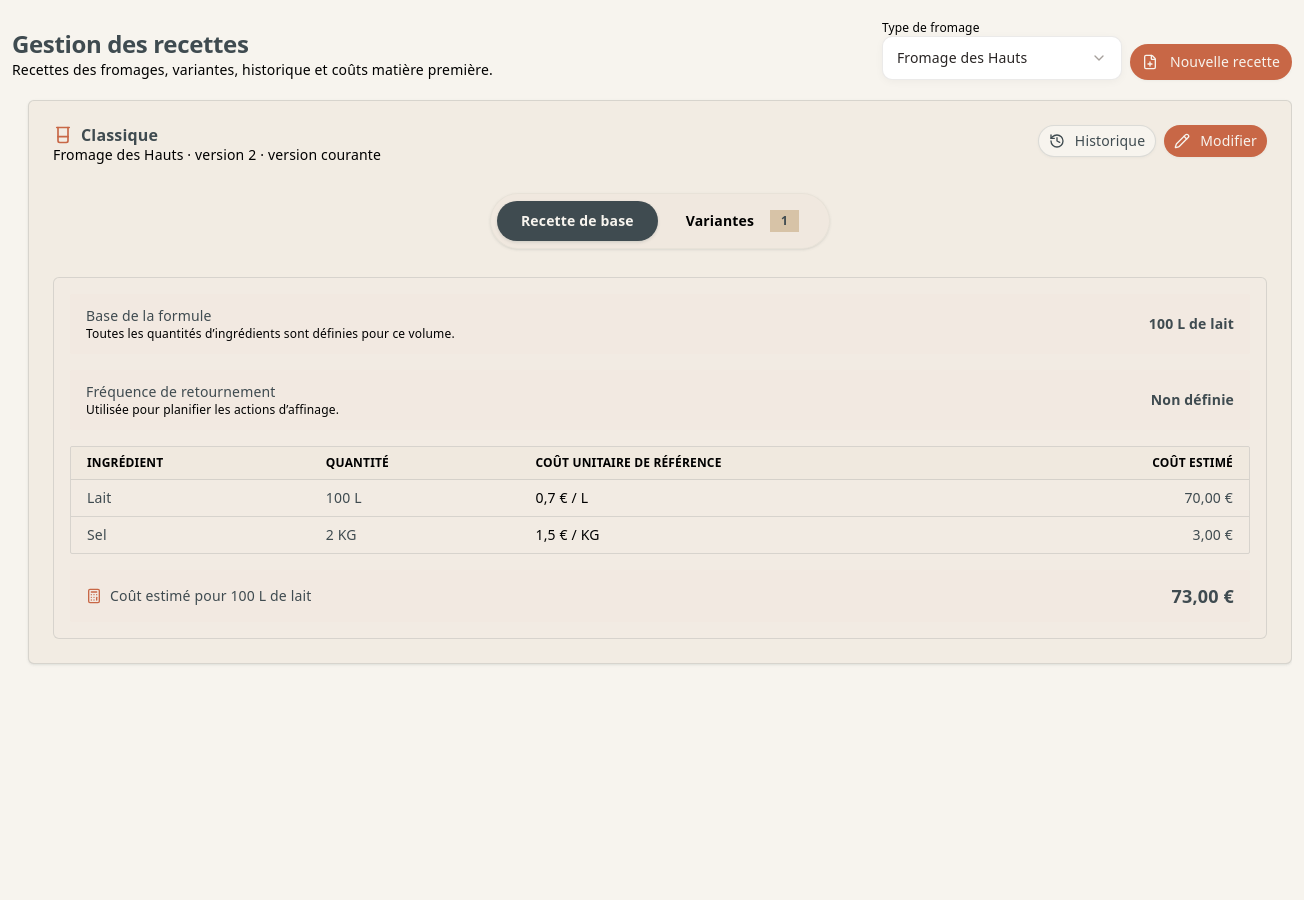
Test case: gestion des recettes › n’affiche pas les anciennes versions parmi les variantes
Click the tab "Variantes 1" at [742, 221], box left=662, top=200, right=823, bottom=242
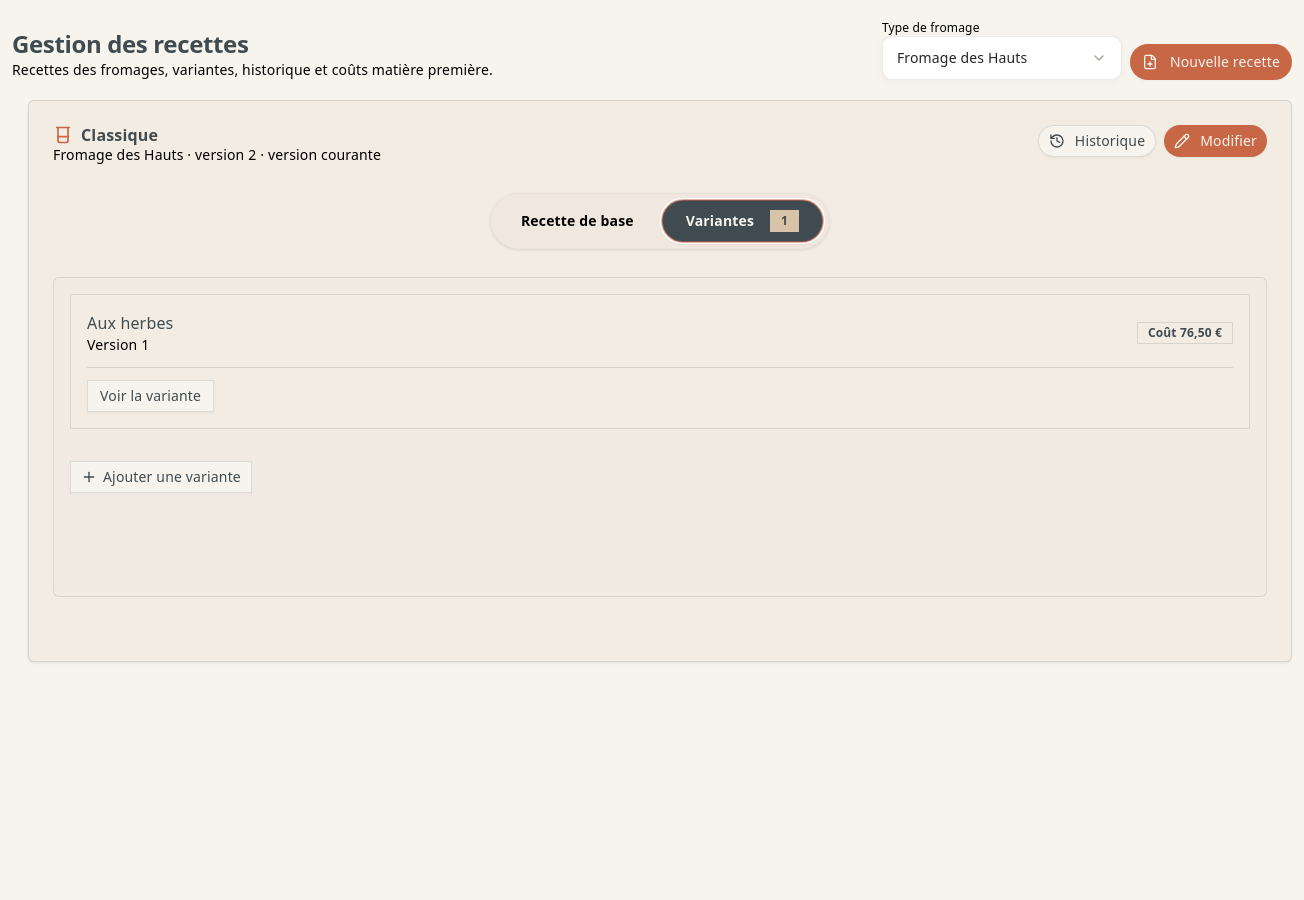
Now the heading "Aux herbes" is shown, box left=87, top=311, right=173, bottom=335
